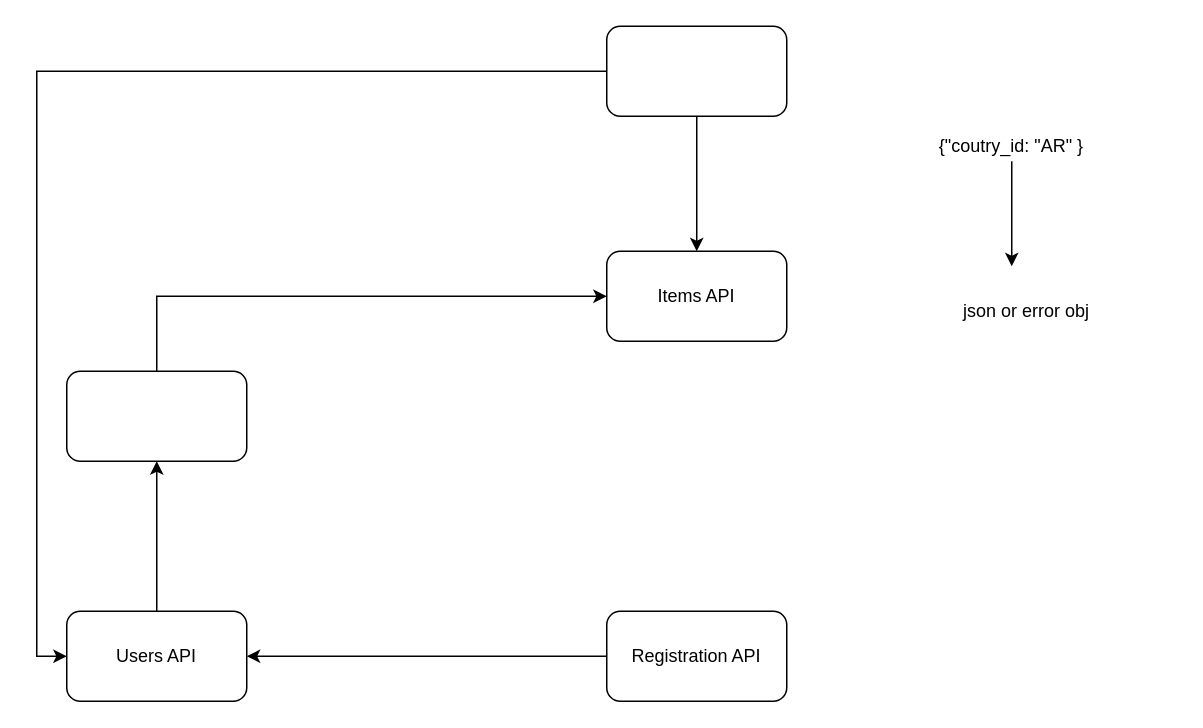
The diagram is 1203 pixels wide and 728 high, and some of its shapes have lost their labels. Here are the shapes that lost their labels. From the top down, the centre of each, then its label:
At pixel 696 70: "Countries API".
At pixel 156 415: "OAuth API".
